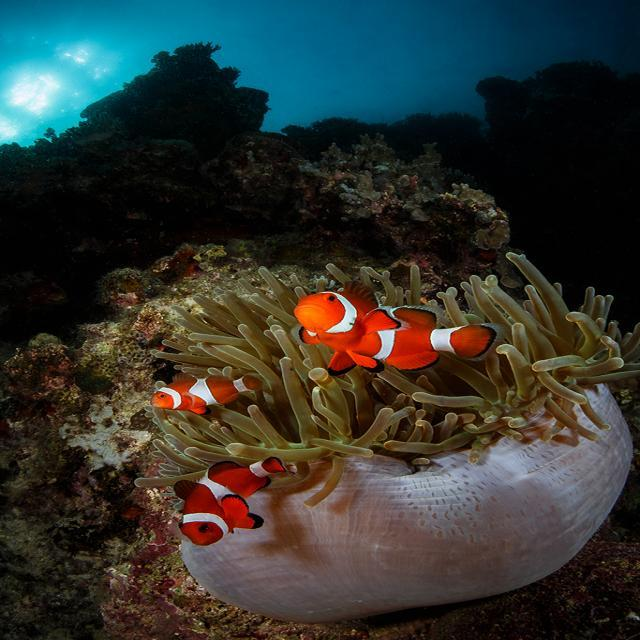ClownFish: (288, 278, 502, 382), (172, 455, 286, 549), (151, 370, 257, 420)
